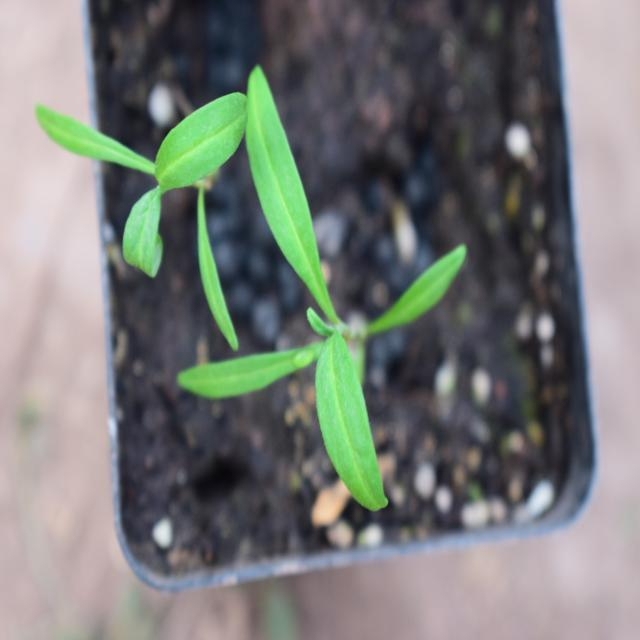white_smart_weed: (202, 36, 449, 515), (17, 39, 240, 271)
